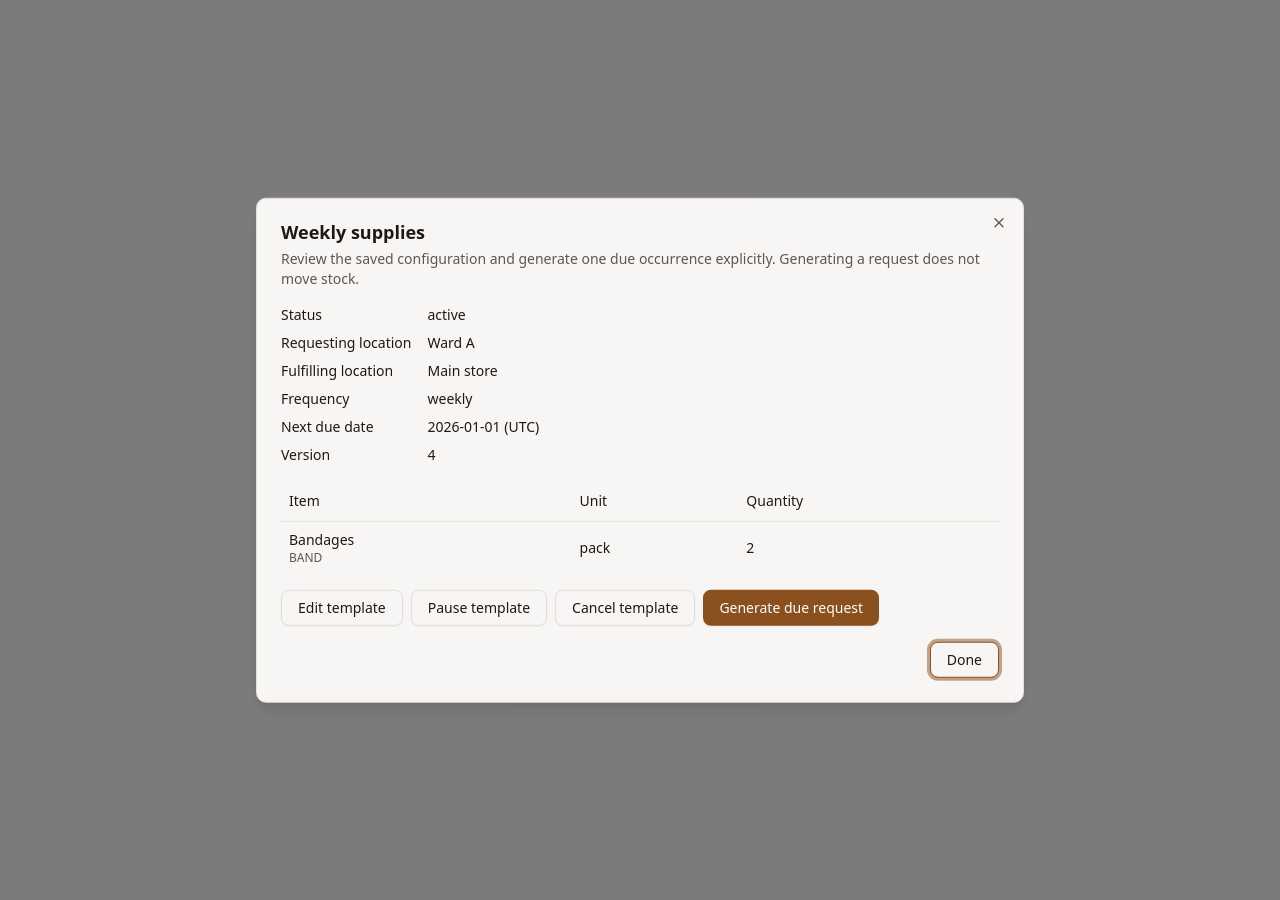
Scenario: standing template workflows › keeps pause separate from a potentially inactive template configuration
Step 1. Click the button "Pause template" → [479, 607], box [411, 589, 547, 625]
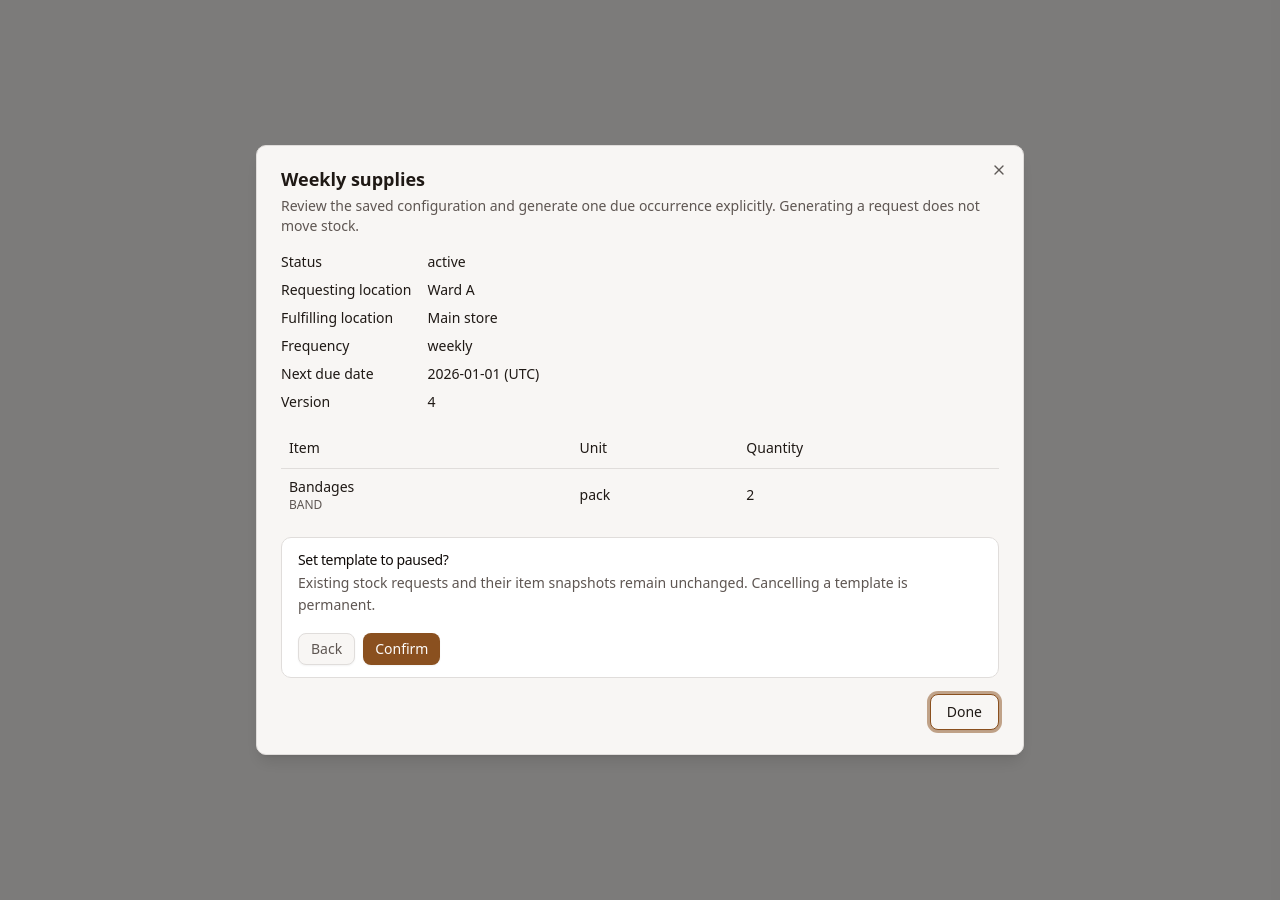
Step 2. Click the button "Confirm" → [402, 649], box [363, 633, 440, 665]
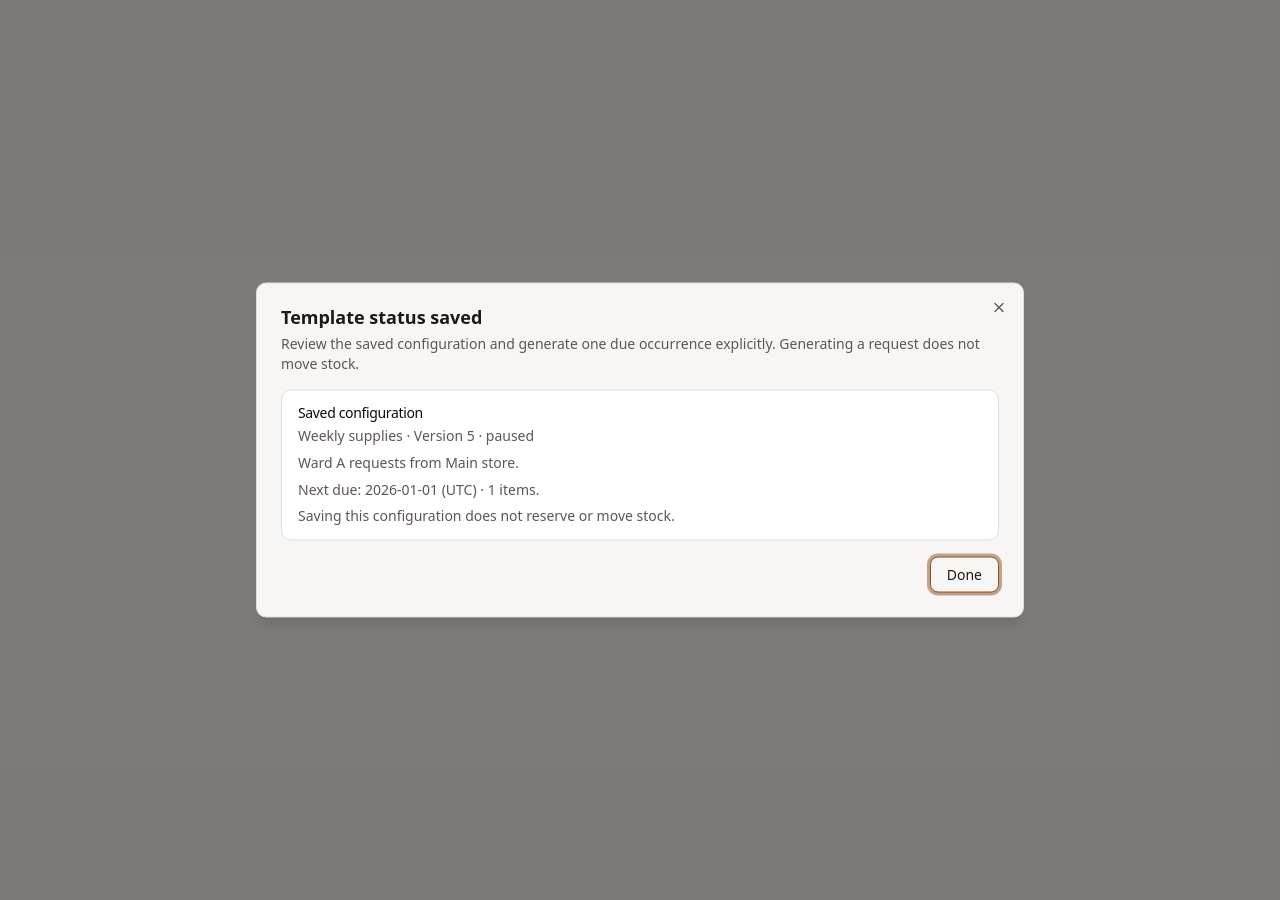
Now the text "Saved configuration" is shown, box [298, 402, 423, 422]
